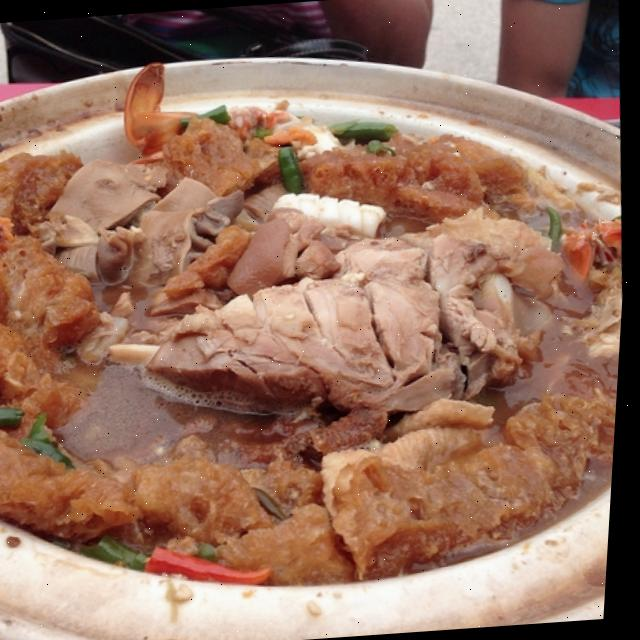汤锅炖物: (0, 19, 639, 629)
